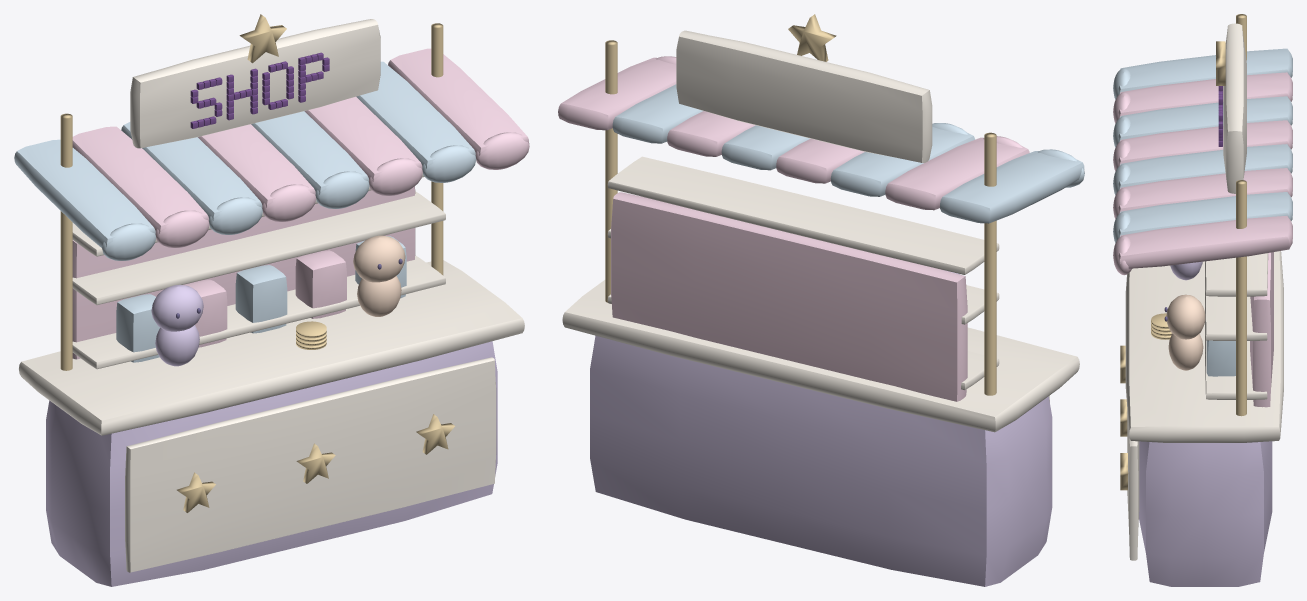
The model's file is shop_stall.glb.
3 views of the same model, side by side, from view 1: azimuth 30°, elevation 25°; view 2: azimuth 150°, elevation 25°; view 3: azimuth 270°, elevation 25° (orthographic). The views are drawn at different scales.
Visible parts, largest first — view 1: counter front, awning stripe (×8), countertop, counter body, display shelf (×2), shop sign, awning scallop (×8), gift merchandise (×4), back display, canopy post (×2), toy head (×2), SHOP editable mesh lettering (+3 smaller); view 2: counter body, back display, awning stripe (×8), shop sign, countertop, display shelf (×3), canopy post (×2), shop crown; view 3: awning stripe (×8), counter body, countertop, display shelf (×3), shop sign, awning scallop (×8), back display, canopy post, toy body (×2), counter front, toy head, gift merchandise (+3 smaller).
Part boxes in pixels (left/top/right/bottom): counter front: left=125, top=357, right=496, bottom=572; awning stripe (×8): left=14, top=48, right=529, bottom=247; countertop: left=19, top=260, right=524, bottom=435; counter body: left=46, top=341, right=497, bottom=586; display shelf (×2): left=72, top=191, right=445, bottom=369; shop sign: left=130, top=19, right=380, bottom=148; awning scallop (×8): left=102, top=132, right=529, bottom=260; gift merchandise (×4): left=116, top=250, right=346, bottom=362; back display: left=72, top=186, right=415, bottom=359; canopy post (×2): left=60, top=23, right=443, bottom=370; toy head (×2): left=151, top=235, right=405, bottom=331; SHOP editable mesh lettering: left=190, top=52, right=329, bottom=128; counter body: left=590, top=335, right=1052, bottom=586; back display: left=611, top=192, right=967, bottom=401; awning stripe (×8): left=558, top=57, right=1084, bottom=223; shop sign: left=676, top=30, right=932, bottom=162; countertop: left=562, top=280, right=1079, bottom=432; display shelf (×3): left=607, top=156, right=999, bottom=390; canopy post (×2): left=605, top=40, right=996, bottom=395; shop crown: left=788, top=14, right=836, bottom=61; awning stripe (×8): left=1118, top=48, right=1292, bottom=268; counter body: left=1139, top=441, right=1272, bottom=586; countertop: left=1125, top=251, right=1283, bottom=442; display shelf (×3): left=1205, top=253, right=1268, bottom=399; shop sign: left=1223, top=23, right=1246, bottom=193; awning scallop (×8): left=1113, top=68, right=1131, bottom=275; back display: left=1250, top=252, right=1273, bottom=407; canopy post: left=1236, top=180, right=1246, bottom=416; toy body (×2): left=1168, top=261, right=1203, bottom=370; counter front: left=1127, top=411, right=1139, bottom=560; toy head: left=1166, top=294, right=1205, bottom=339; gift merchandise: left=1206, top=340, right=1235, bottom=376.
Bounding box in the file's own units: 2.88 × 3.25 × 1.14.
